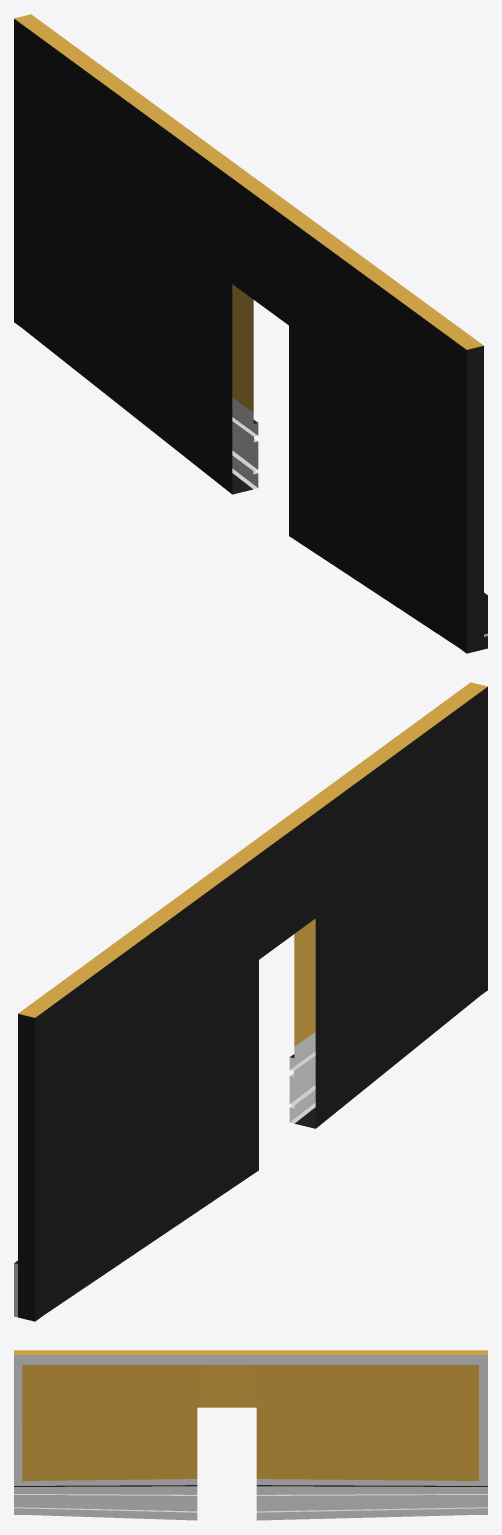
The model's file is officedoorwall.glb.
3 renders of one model, top to bottom at view 1: azimuth 30°, elevation 25°; view 2: azimuth 150°, elevation 25°; view 3: azimuth 270°, elevation 25°, orthographic. The views are drawn at different scales.
Parts seen in each view (by area): view 1: floor.007; view 2: floor.007; view 3: floor.007.
Part boxes in pixels (x1,y1,x2,y2): floor.007: (14,14,487,653); floor.007: (14,682,487,1321); floor.007: (14,1350,487,1520).
Size of the model in its own units: 1.02 by 11.76 by 30.78.
